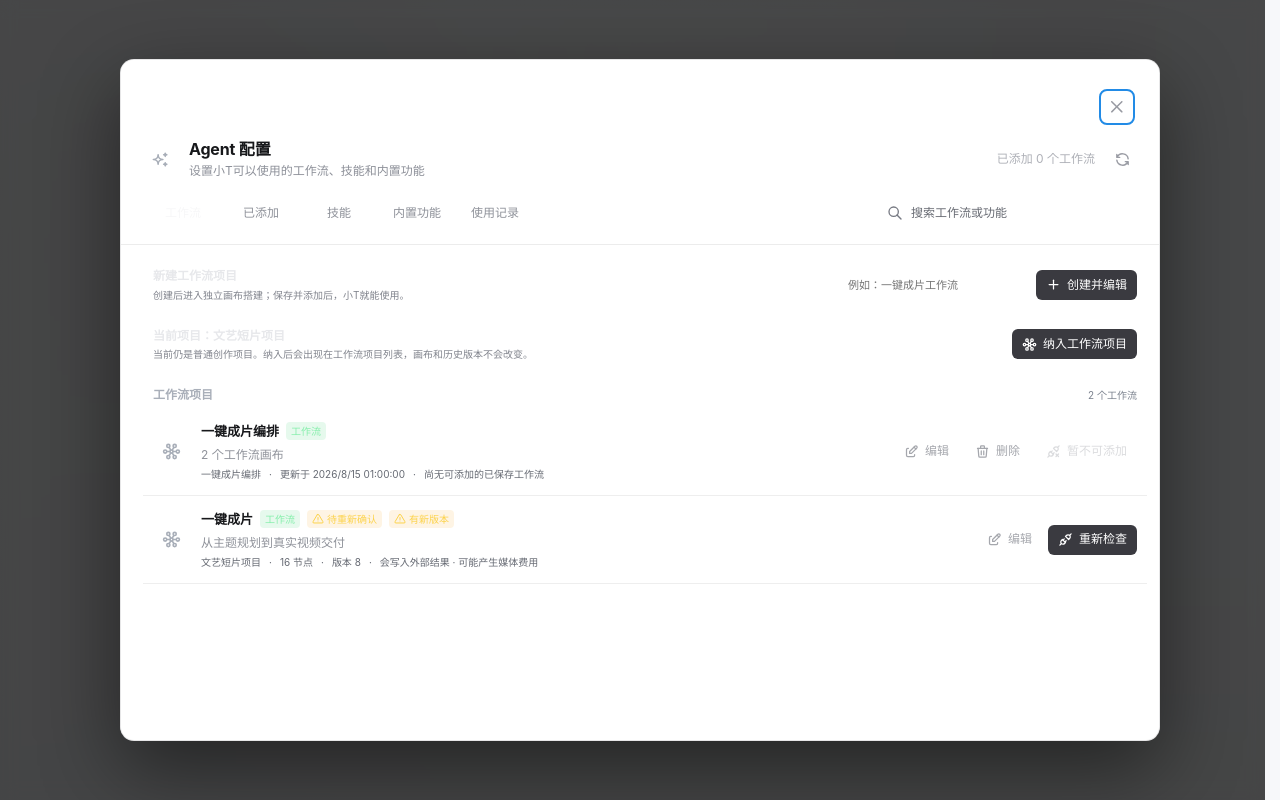
CapabilityBayDialog › does not count a historical attachment without single-track confirmation as equipped
The image size is (1280, 800).
Check: the text "待重新确认" is shown, box top-left (307, 510), bottom-right (382, 528)
Check: the text "已添加 0 个工作流" is shown, box top-left (997, 150), bottom-right (1095, 168)
What coordinates should you click on to do the following:
click the tab "已添加"
I would click on:
 (261, 213)
Its box is top-left (224, 199), bottom-right (298, 227).
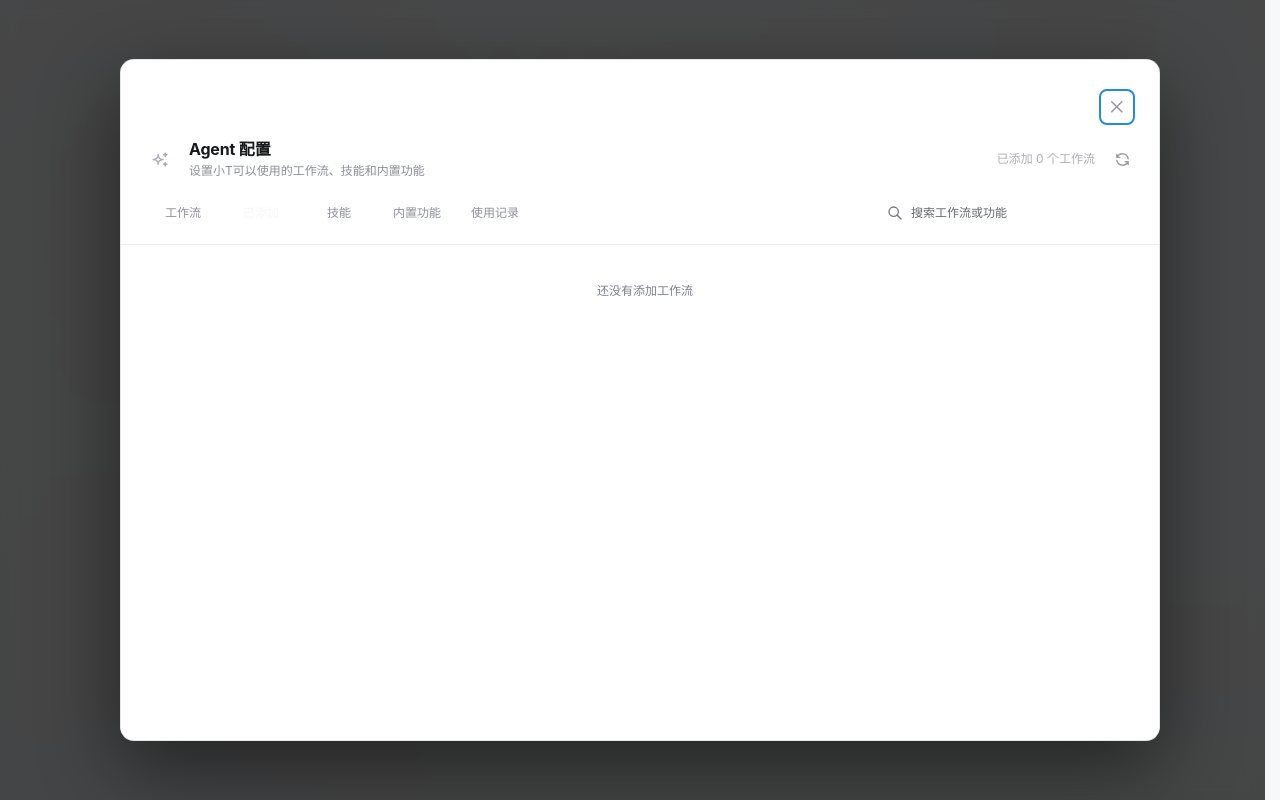
Check: the text "还没有添加工作流" is shown, box top-left (597, 283), bottom-right (693, 298)
